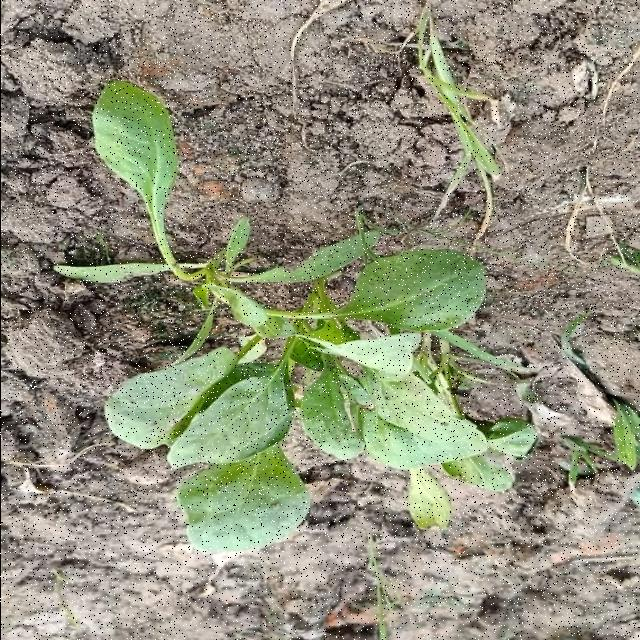plant: (53, 81, 535, 551)
